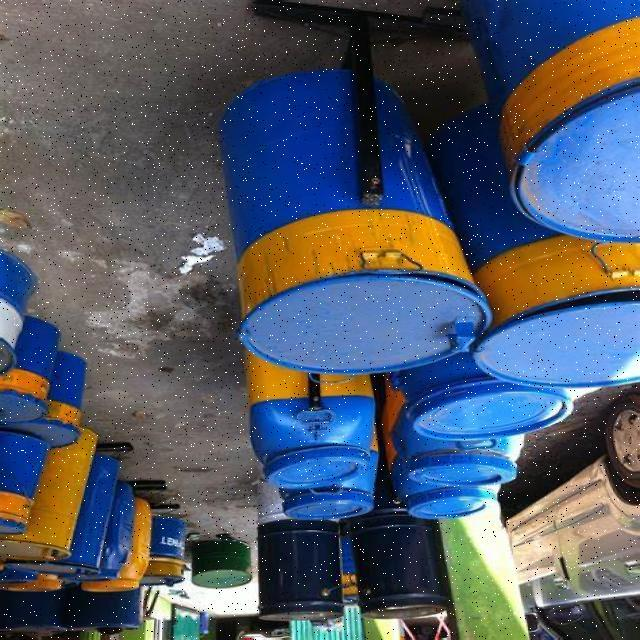garbage container: (226, 48, 481, 384), (491, 1, 640, 245), (458, 241, 640, 408), (240, 361, 389, 500), (410, 353, 555, 473), (405, 467, 528, 556), (291, 436, 376, 544)
